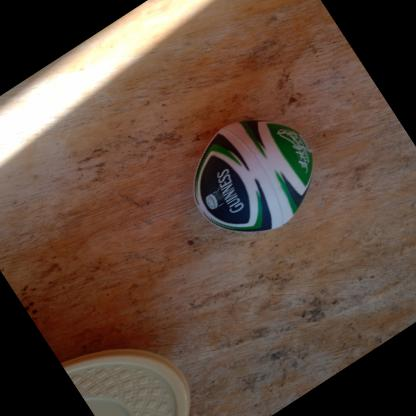Rugby: (158, 86, 343, 264)
